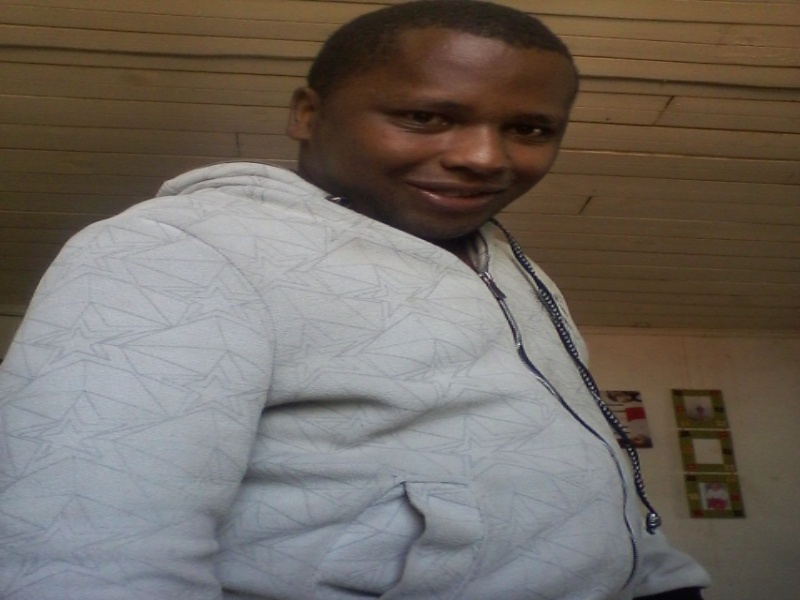TsisyArotava: (322, 5, 581, 249)
